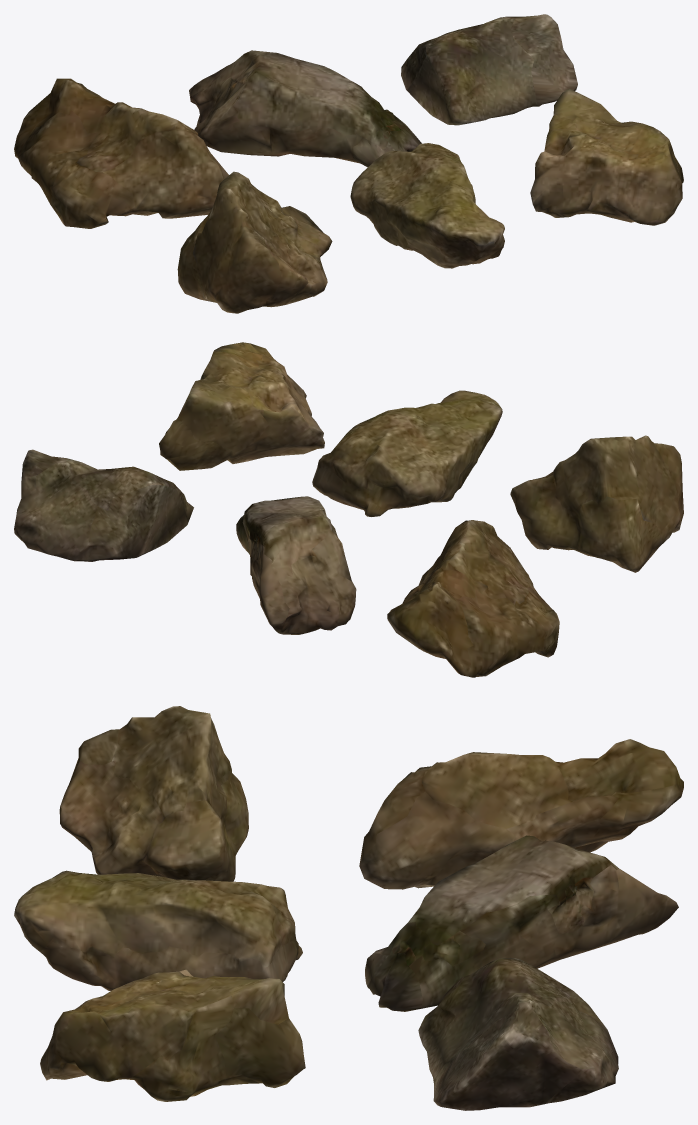
File: rock_moss_set_01.glb
3 views of the same model, one above another, from view 1: azimuth 30°, elevation 25°; view 2: azimuth 150°, elevation 25°; view 3: azimuth 270°, elevation 25° (orthographic). The views are drawn at different scales.
Visible parts, largest first — view 1: rock_moss_set_01_rock01, rock_moss_set_01_rock02, rock_moss_set_01_rock06, rock_moss_set_01_rock04, rock_moss_set_01_rock03, rock_moss_set_01_rock05; view 2: rock_moss_set_01_rock04, rock_moss_set_01_rock01, rock_moss_set_01_rock05, rock_moss_set_01_rock03, rock_moss_set_01_rock06, rock_moss_set_01_rock02; view 3: rock_moss_set_01_rock01, rock_moss_set_01_rock02, rock_moss_set_01_rock05, rock_moss_set_01_rock04, rock_moss_set_01_rock06, rock_moss_set_01_rock03.
Boxes of the visible parts, x1,y1,x2,y2 form: rock_moss_set_01_rock01: [14, 78, 228, 228]; rock_moss_set_01_rock02: [189, 50, 421, 167]; rock_moss_set_01_rock06: [530, 88, 683, 225]; rock_moss_set_01_rock04: [177, 171, 332, 313]; rock_moss_set_01_rock03: [401, 14, 577, 125]; rock_moss_set_01_rock05: [350, 143, 504, 268]; rock_moss_set_01_rock04: [510, 435, 683, 572]; rock_moss_set_01_rock01: [387, 520, 559, 677]; rock_moss_set_01_rock05: [312, 390, 502, 516]; rock_moss_set_01_rock03: [14, 449, 193, 561]; rock_moss_set_01_rock06: [159, 342, 324, 470]; rock_moss_set_01_rock02: [236, 496, 356, 634]; rock_moss_set_01_rock01: [359, 739, 683, 889]; rock_moss_set_01_rock02: [365, 835, 678, 1011]; rock_moss_set_01_rock05: [14, 870, 302, 990]; rock_moss_set_01_rock04: [59, 706, 248, 881]; rock_moss_set_01_rock06: [40, 969, 305, 1101]; rock_moss_set_01_rock03: [418, 958, 618, 1110].
Bounding box in the file's own units: 8 × 1.76 × 6.94.
1 material, 1 textured.
